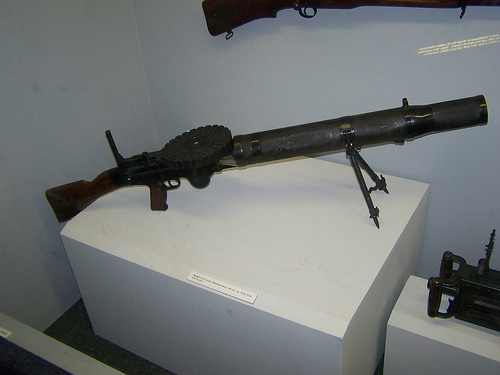rifle: (23, 97, 497, 225)
